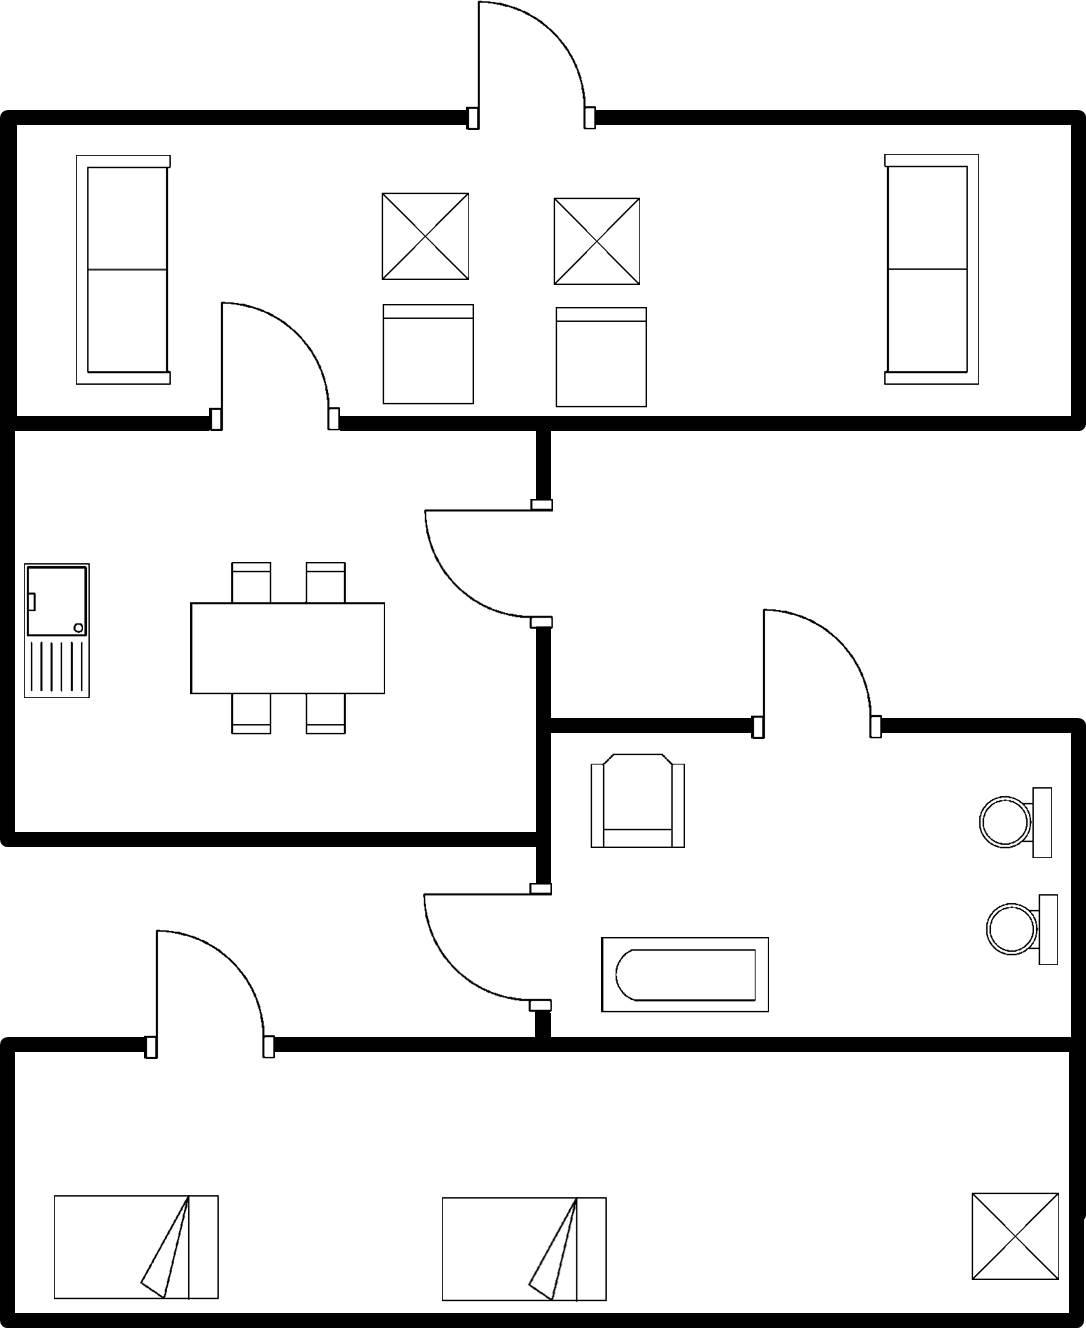bed: (428, 1187, 619, 1308), (42, 1184, 229, 1305)
dining_table: (175, 549, 393, 745)
sink: (19, 553, 97, 705)
sofa: (868, 143, 988, 398), (67, 147, 178, 392)
toilet: (972, 883, 1063, 979), (969, 774, 1060, 867)
tub: (588, 924, 779, 1022)
